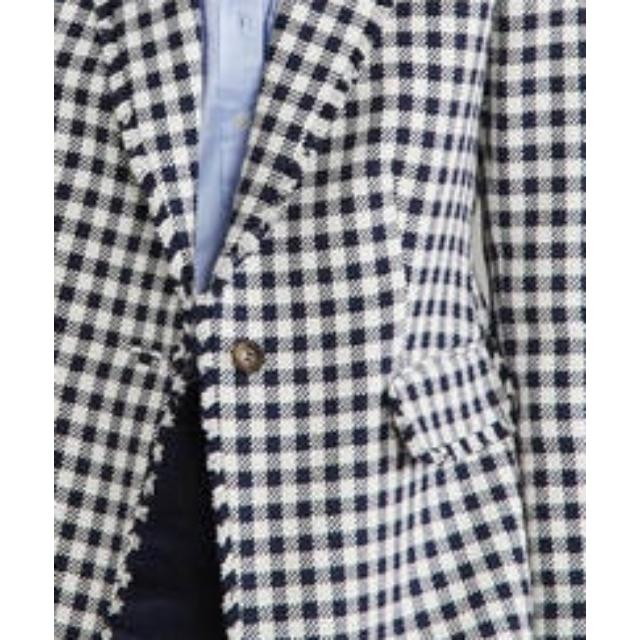cotton: (54, 1, 586, 373)
